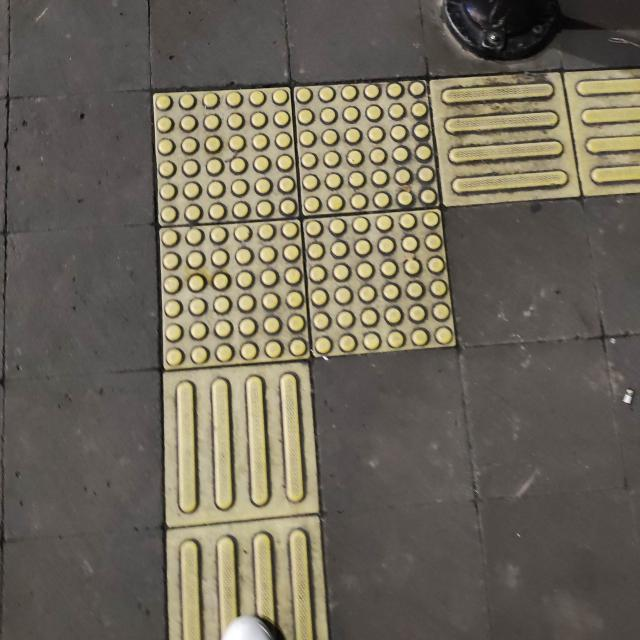kanan: (83, 56, 640, 432)
